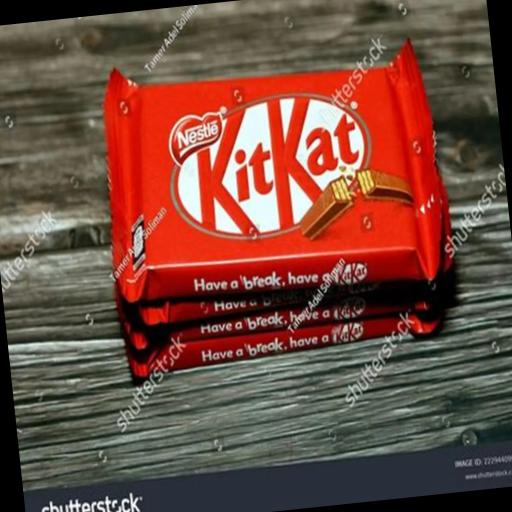kitkat: (56, 10, 486, 376)
